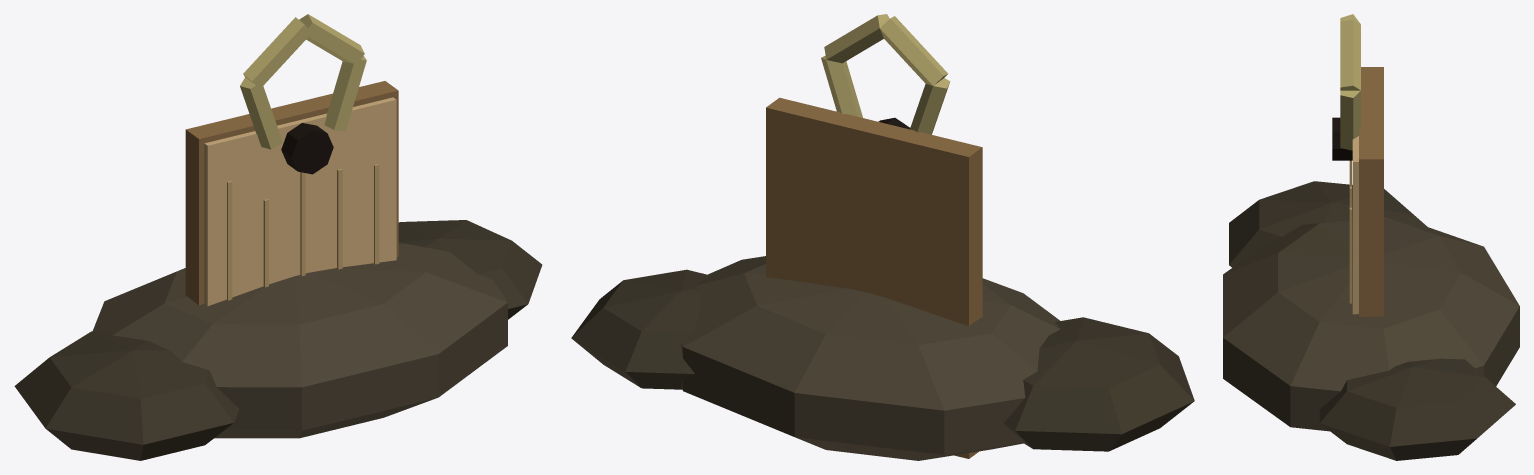
Rendered from prop_closeup_blank_tag.glb.
3 renders of one model, left to right at view 1: azimuth 30°, elevation 25°; view 2: azimuth 150°, elevation 25°; view 3: azimuth 270°, elevation 25°, orthographic. The views are drawn at different scales.
Parts seen in each view (by area): view 1: prop_closeup_blank_tag; view 2: prop_closeup_blank_tag; view 3: prop_closeup_blank_tag.
Part boxes in pixels (box(x1,y1,x2,y2)): prop_closeup_blank_tag: box(14, 14, 542, 460); prop_closeup_blank_tag: box(571, 14, 1194, 460); prop_closeup_blank_tag: box(1223, 14, 1519, 460).
Size of the model in its own units: 0.5152 by 0.3624 by 0.2583.
